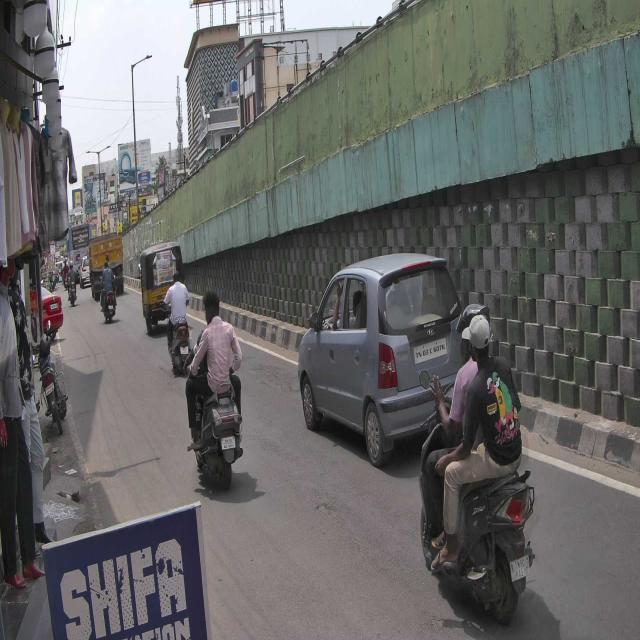double_rider: (419, 301, 537, 624), (186, 290, 247, 493)
